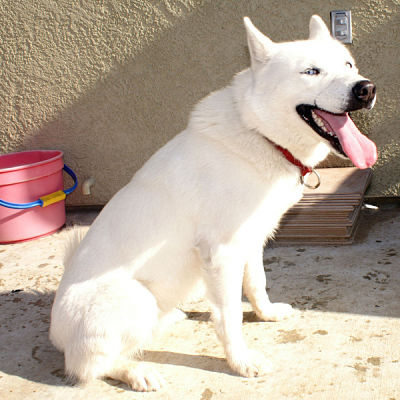husky: (48, 11, 388, 381)
